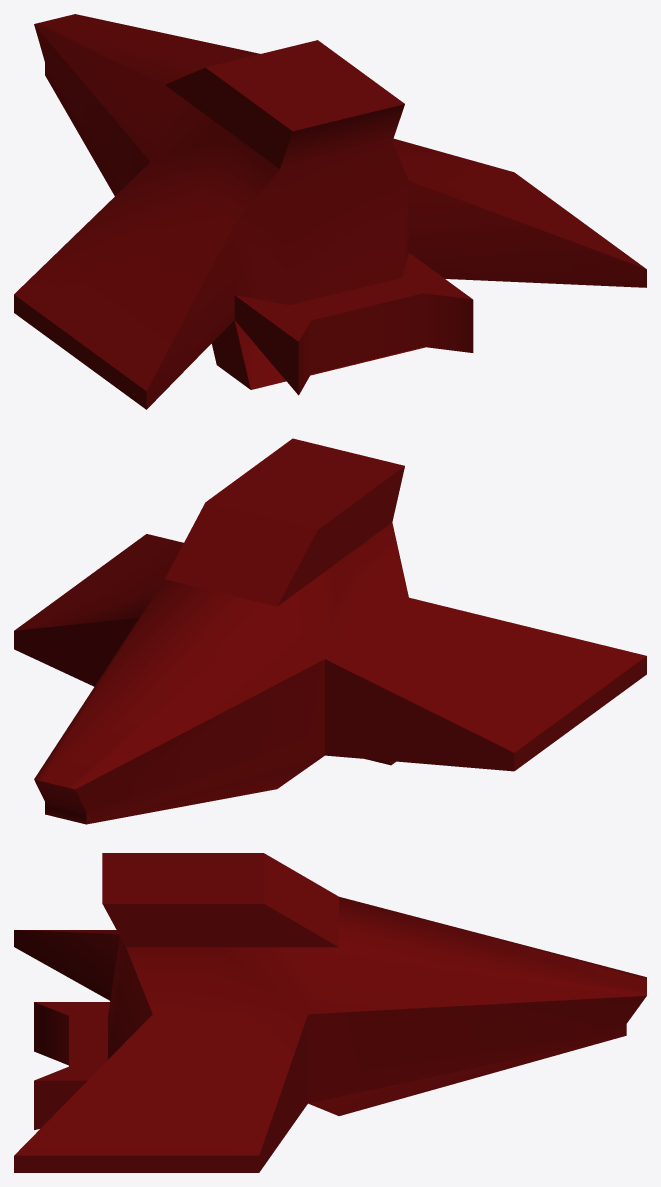
File: spaceShip.fbx
The picture shows the model from 3 angles, top to bottom: view 1: azimuth 30°, elevation 25°; view 2: azimuth 150°, elevation 25°; view 3: azimuth 270°, elevation 25°; orthographic projection. The views are drawn at different scales.
Visible parts, largest first — view 1: pCube1; view 2: pCube1; view 3: pCube1.
Boxes of the visible parts, left/top/right/bottom form: pCube1: left=14, top=14, right=646, bottom=409; pCube1: left=14, top=438, right=646, bottom=824; pCube1: left=14, top=853, right=646, bottom=1172.
Size of the model in its own units: 2.87 by 1.42 by 3.4.
